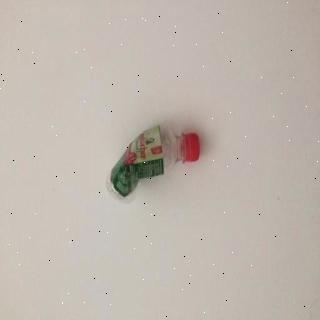Plastic-bottle: (107, 124, 201, 202)
